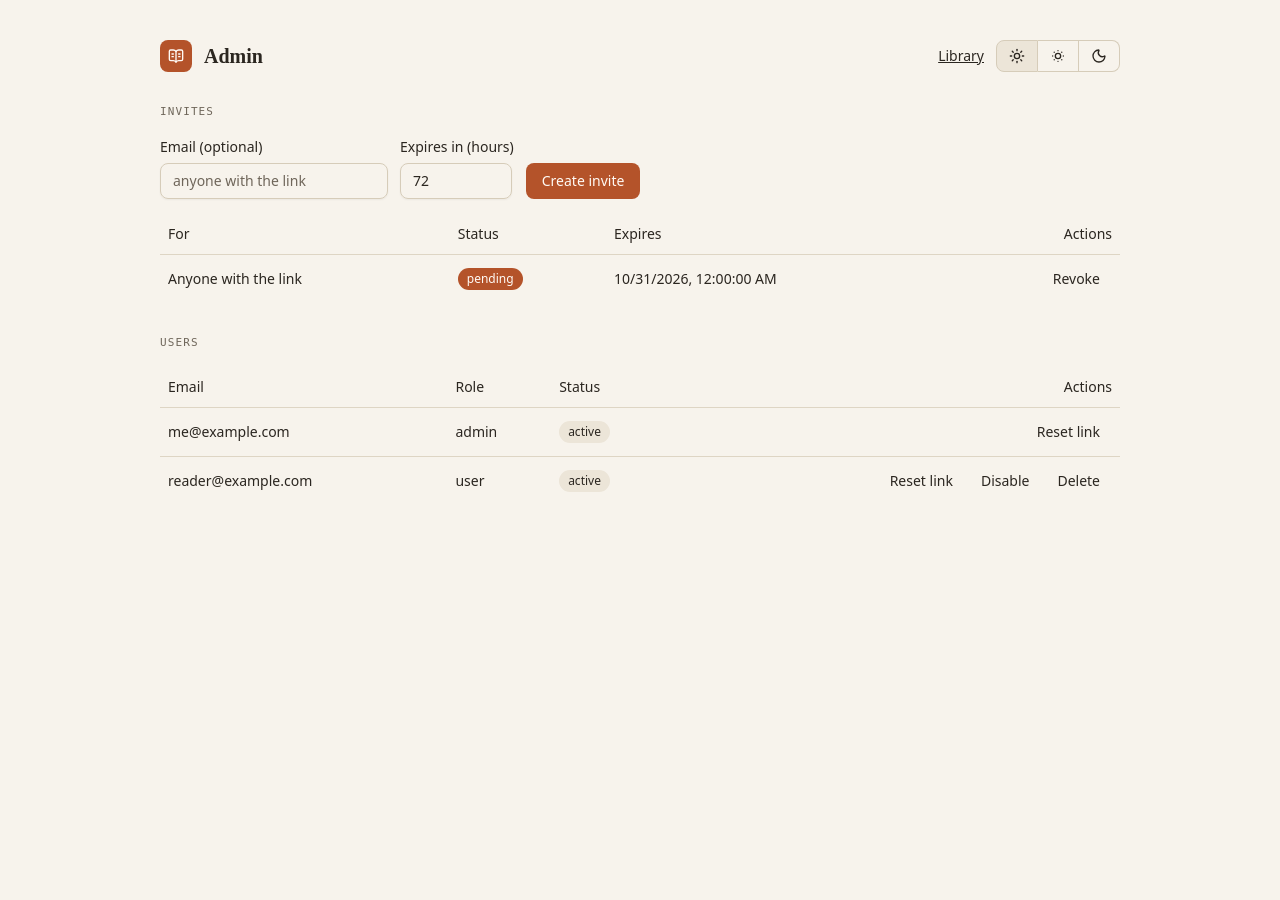
AdminPage › disables a user and fetches a reset link
Click the button with aria-label "Disable reader@example.com".
click(1005, 481)  # box [969,465,1041,497]
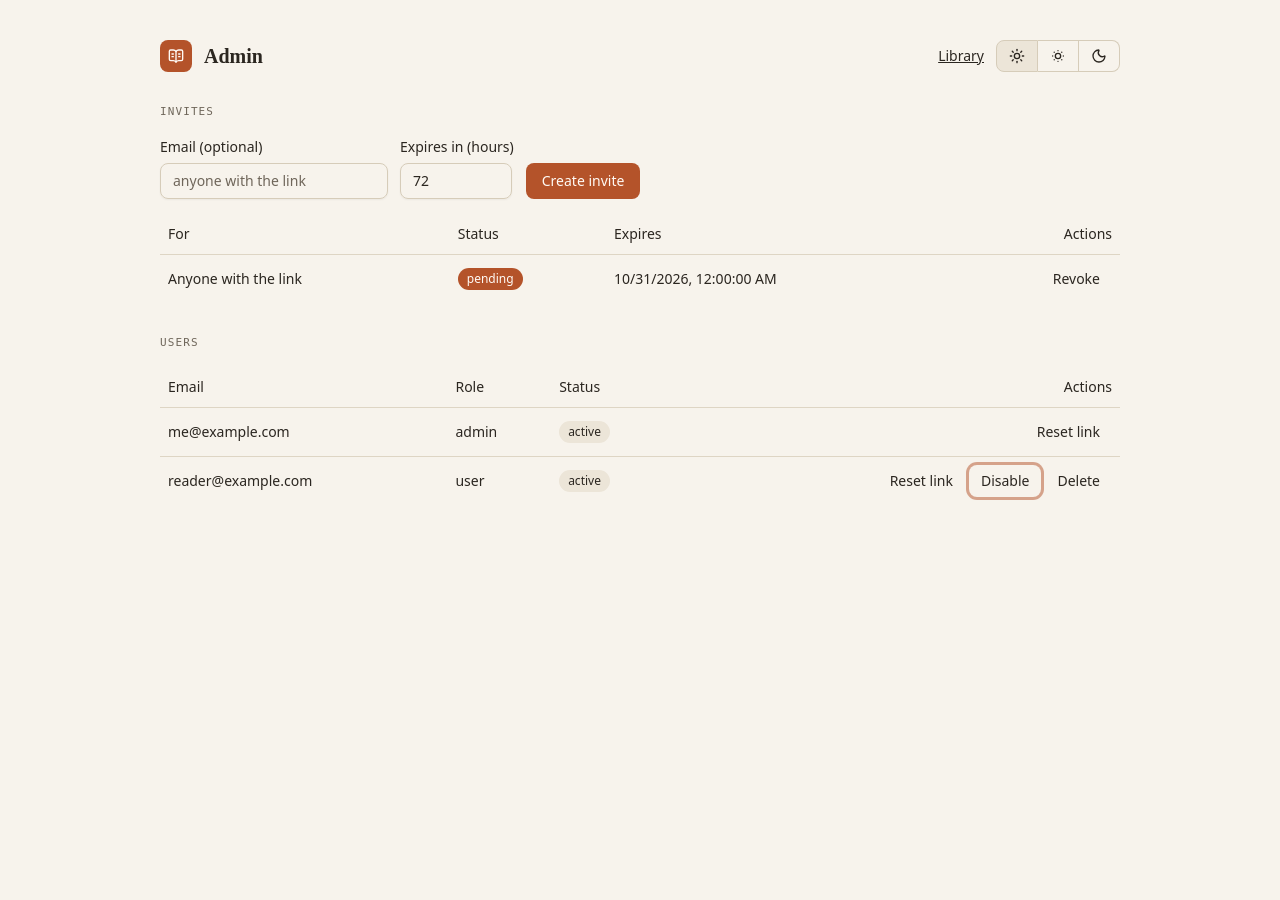
Click the button with aria-label "Reset link for reader@example.com".
click(921, 481)  # box [878,465,965,497]
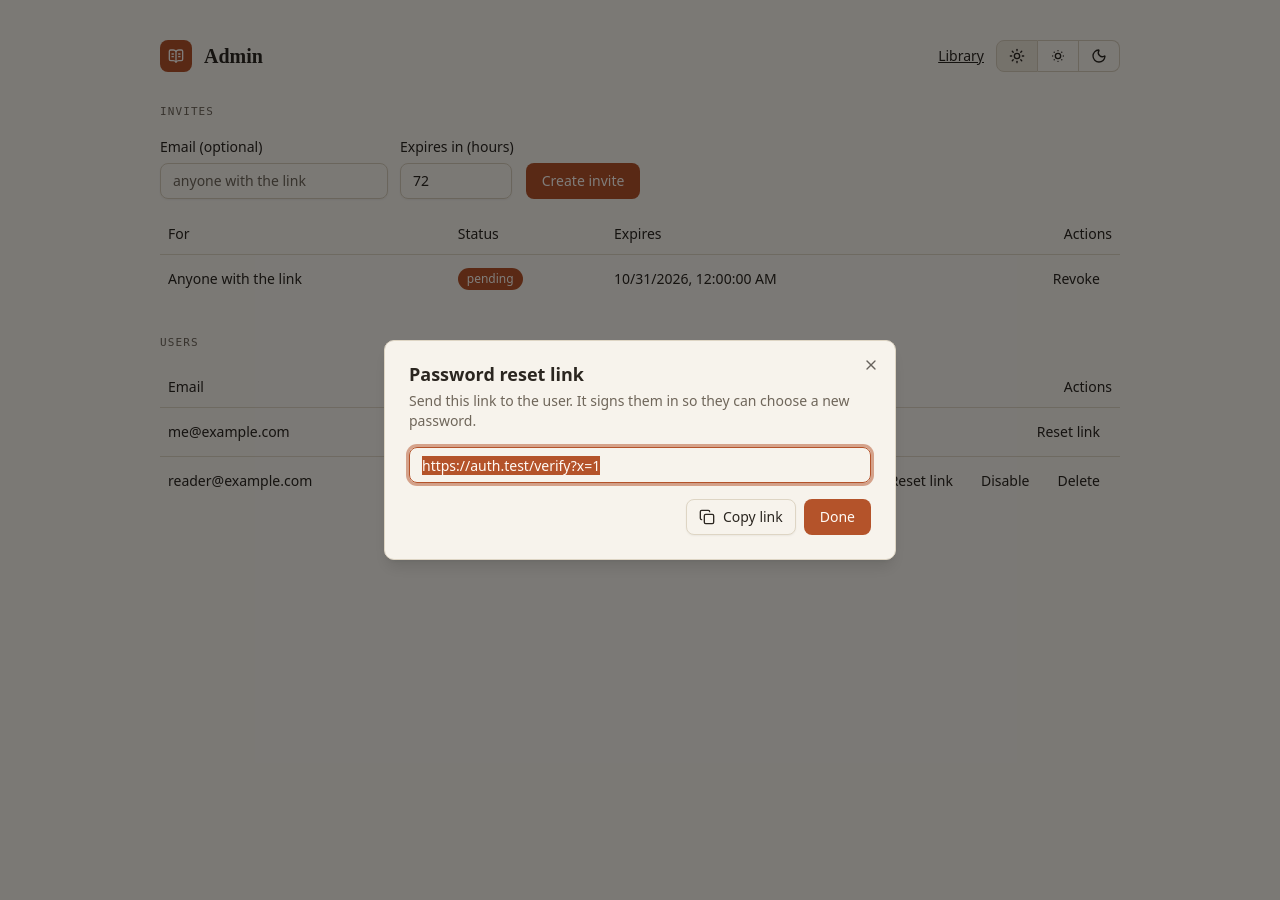
Check: the field named "Link" holds "https://auth.test/verify?x=1", box [409,447,871,483]
